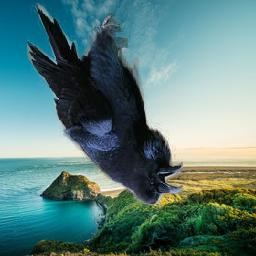Crow: (27, 3, 183, 205)
